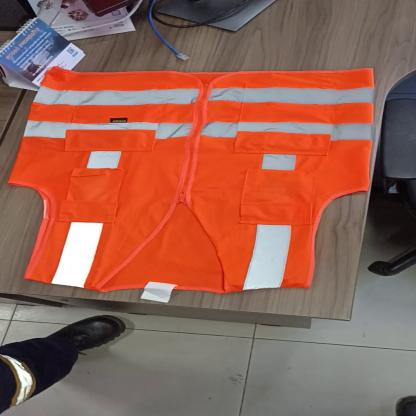colete: (8, 66, 370, 292)
